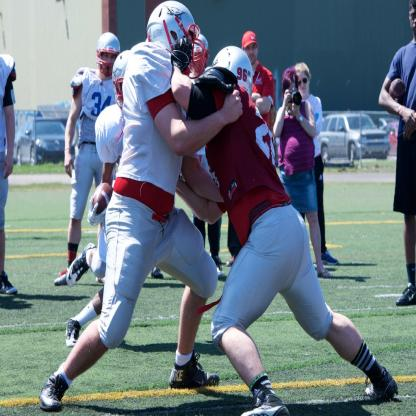Helmet: (146, 0, 199, 73), (211, 46, 251, 98), (89, 32, 119, 72), (186, 32, 208, 78), (112, 49, 129, 107)
